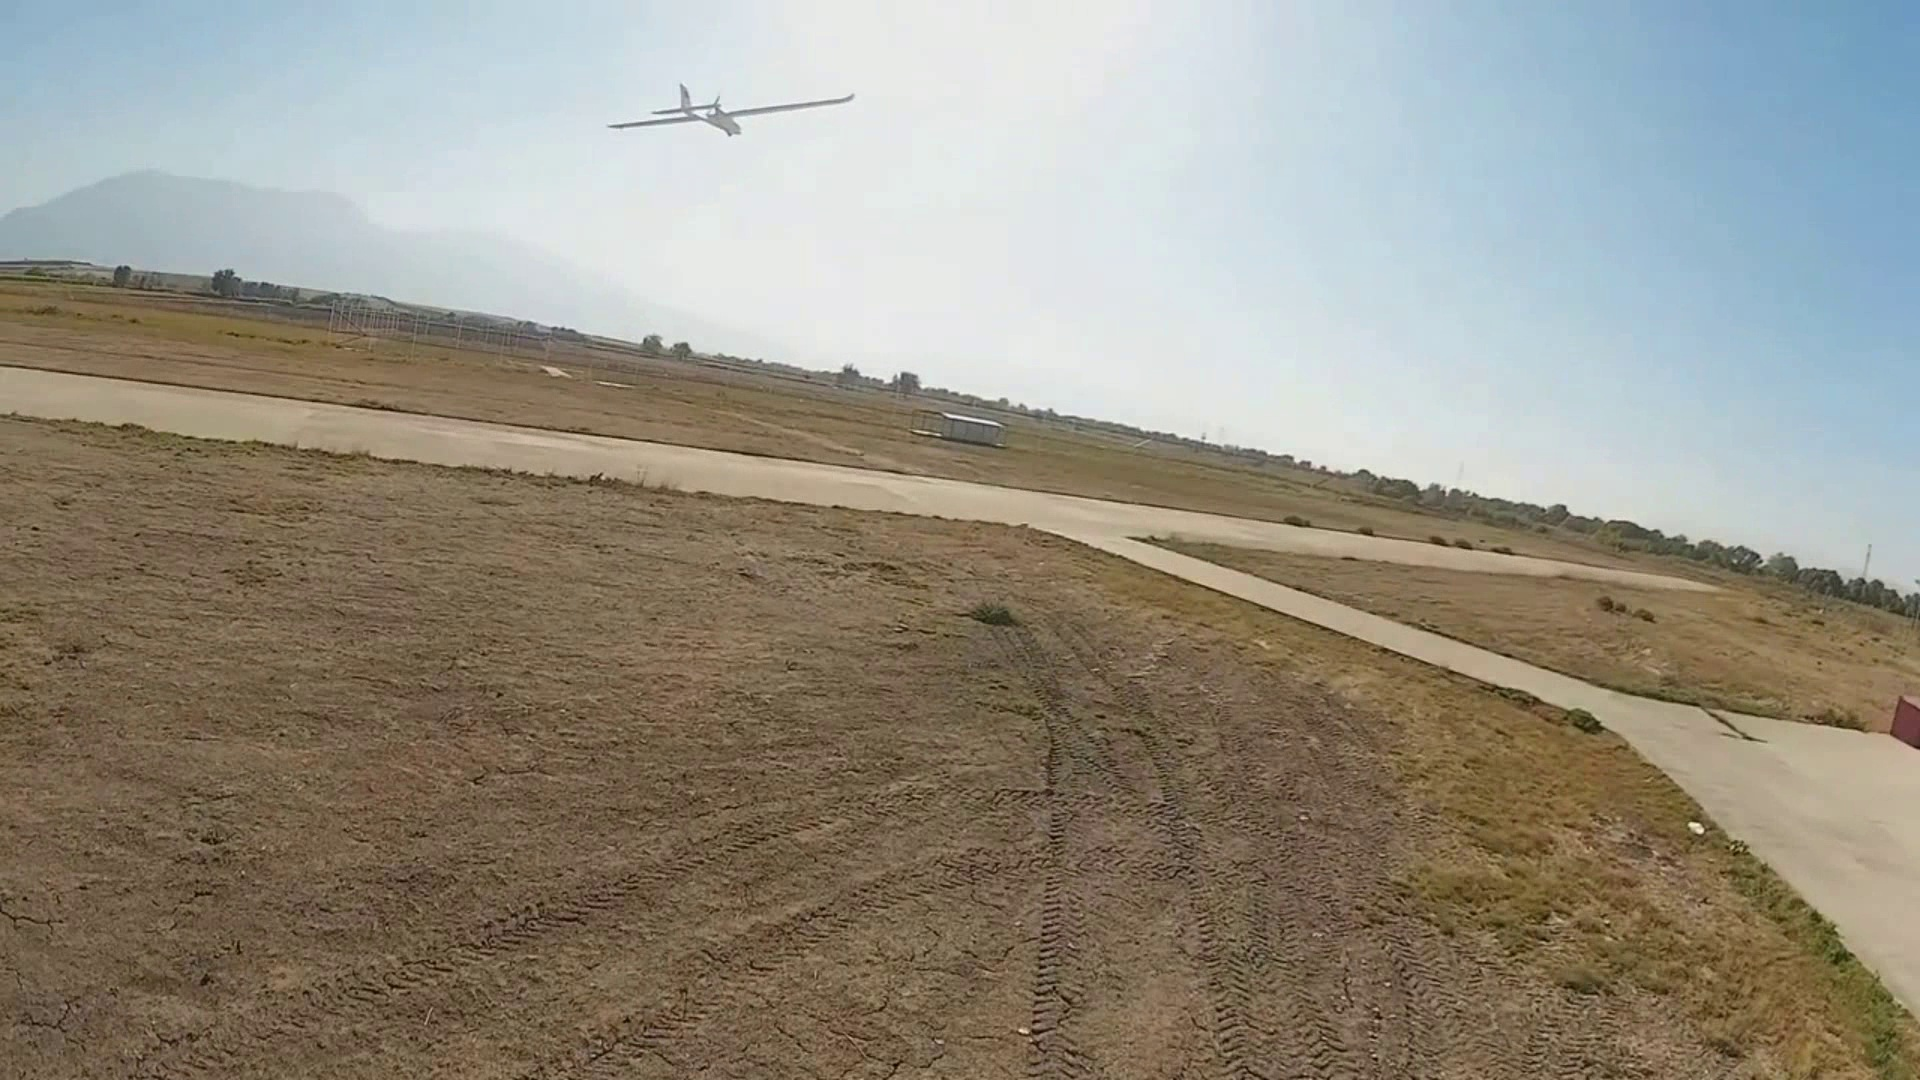airplane: (607, 76, 858, 135)
